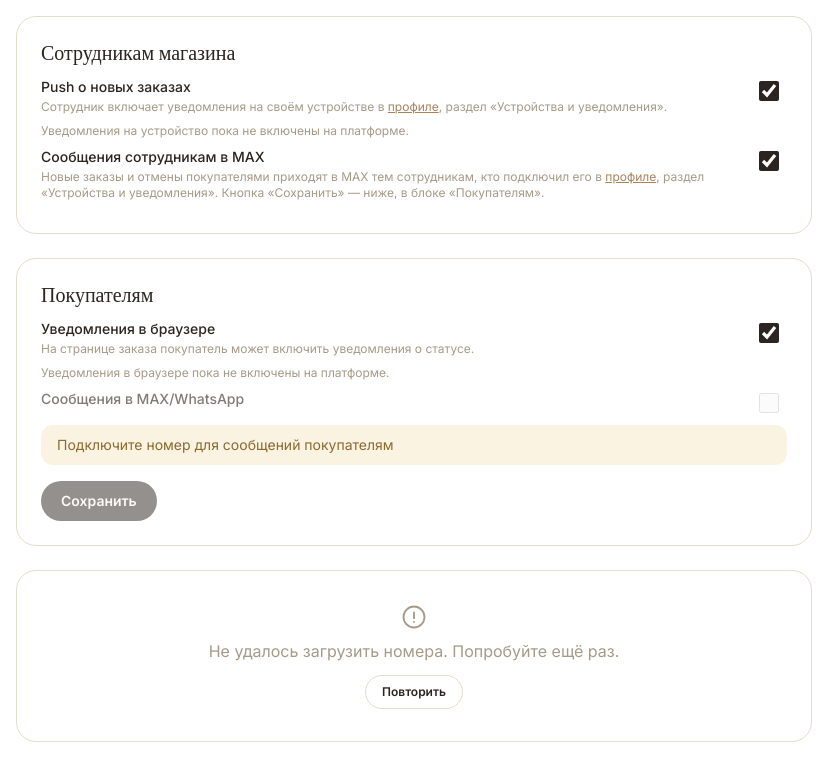
Scenario: ShopNotificationsPage › saves the whole set of flags and shows the confirmation
The image size is (829, 759).
Click the switch labelled "Push о новых заказах".
click(769, 91)  # box [751,81,787,101]
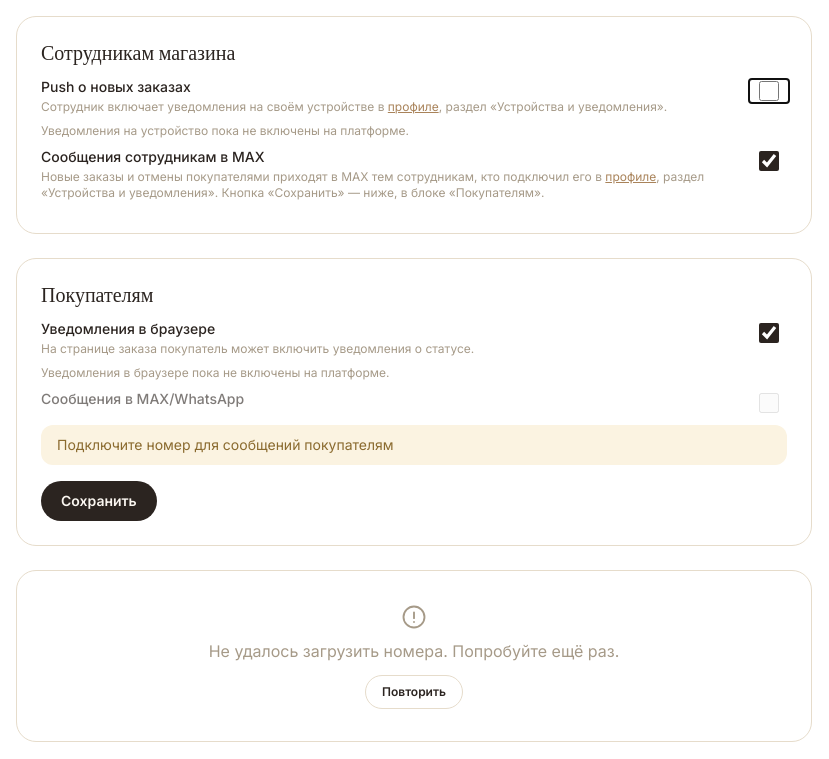
Click the button "Сохранить".
click(99, 501)  # box [41,481,157,521]
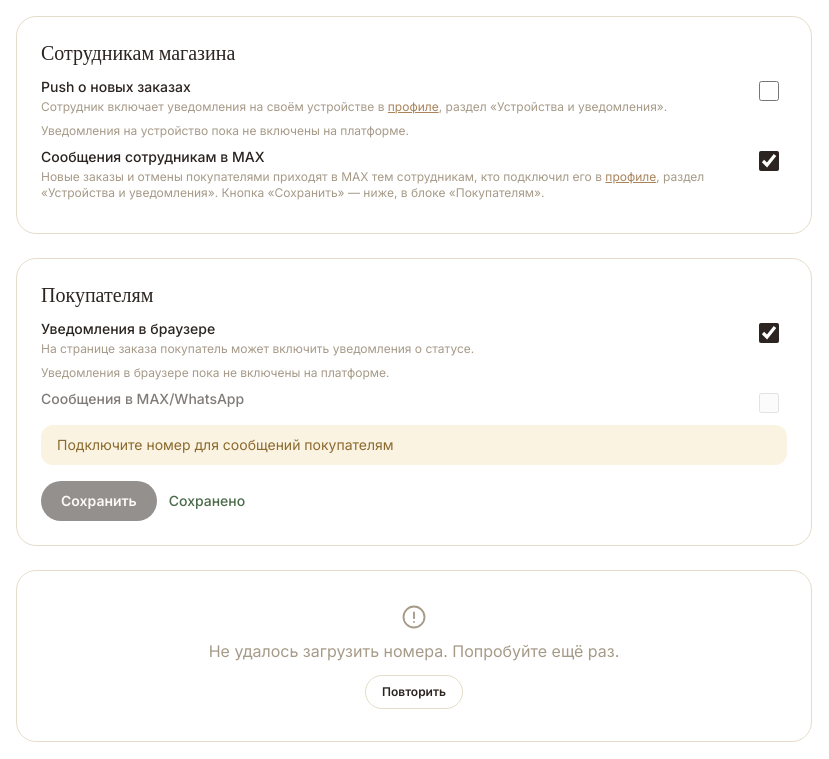
Check: the text "Сохранено" is shown, box [169,491,245,511]
